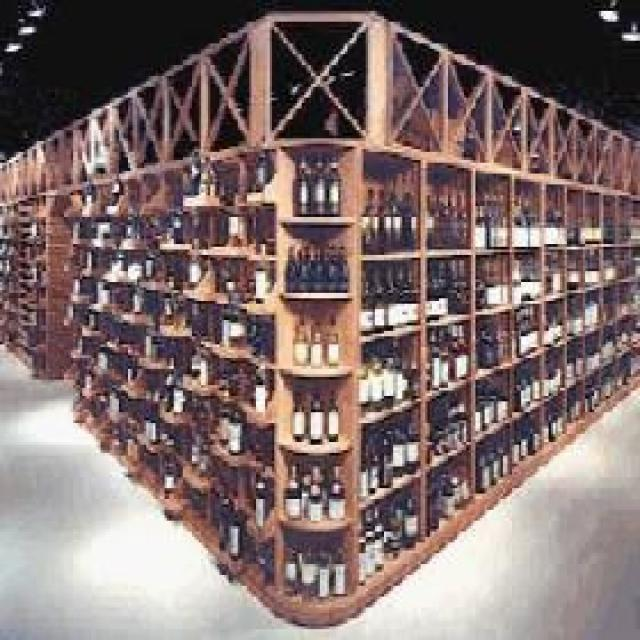bottle crop: (281, 461, 299, 518), (304, 461, 322, 518), (309, 385, 320, 439), (306, 317, 318, 363)
bottles occluded: (357, 409, 418, 496), (359, 336, 414, 412), (361, 260, 418, 331), (359, 184, 416, 247), (281, 239, 345, 287), (290, 149, 338, 212), (425, 320, 466, 385)
floor -X: (0, 344, 638, 635)
shelves crop: (0, 11, 635, 621)
